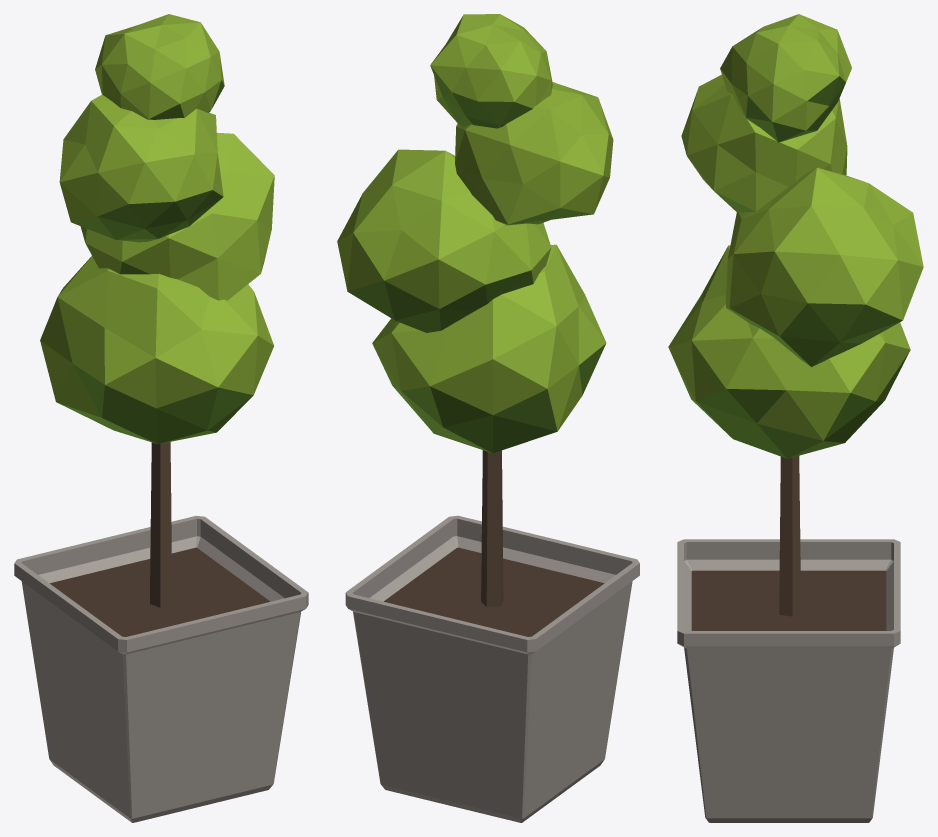
Rendered from SM_Street_Pot_SquareGrey_L_Tree_01.gltf.
3 renders of one model, left to right at view 1: azimuth 30°, elevation 25°; view 2: azimuth 150°, elevation 25°; view 3: azimuth 270°, elevation 25°, orthographic.
Parts seen in each view (by area): view 1: SM_Street_Pot_SquareGrey_L_Tree_01; view 2: SM_Street_Pot_SquareGrey_L_Tree_01; view 3: SM_Street_Pot_SquareGrey_L_Tree_01.
Boxes of the visible parts, x1=… form: SM_Street_Pot_SquareGrey_L_Tree_01: x1=14, y1=14, x2=308, y2=822; SM_Street_Pot_SquareGrey_L_Tree_01: x1=337, y1=14, x2=639, y2=822; SM_Street_Pot_SquareGrey_L_Tree_01: x1=668, y1=14, x2=923, y2=822.
Size of the model in its own units: 0.4699 by 1.51 by 0.4573.
1 material, 1 textured.
